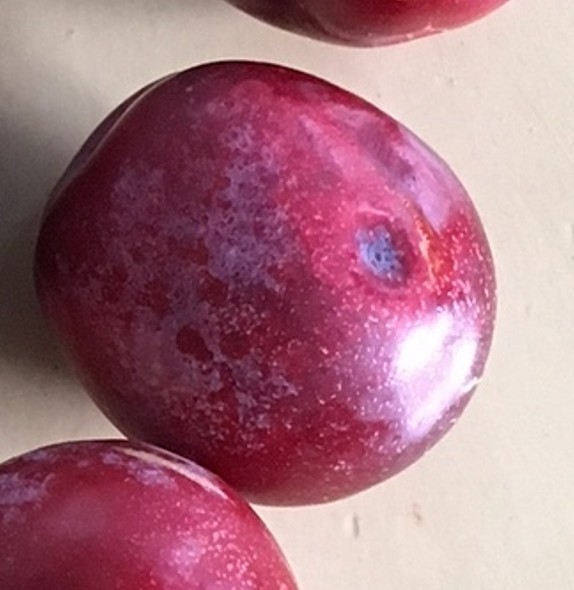plum_B: (34, 62, 499, 505)
